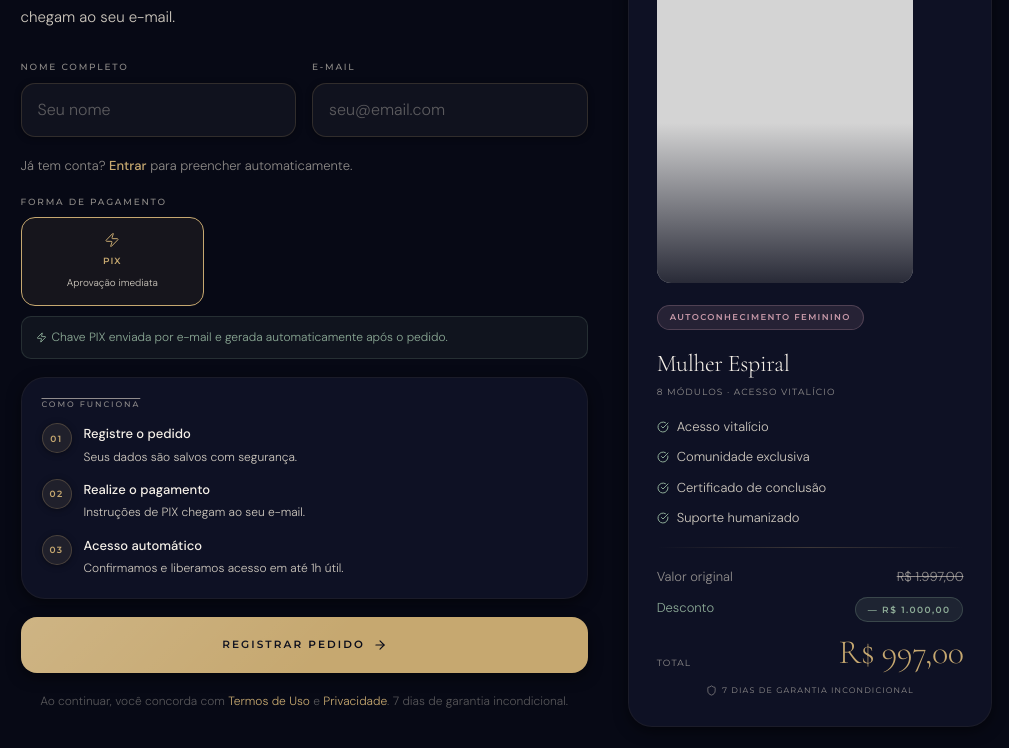
CheckoutPage — form validation › shows both name and email errors simultaneously when both are empty
(page scrolled)
Click the button "Registrar pedido". click: [304, 645]
box: left=20, top=617, right=588, bottom=673
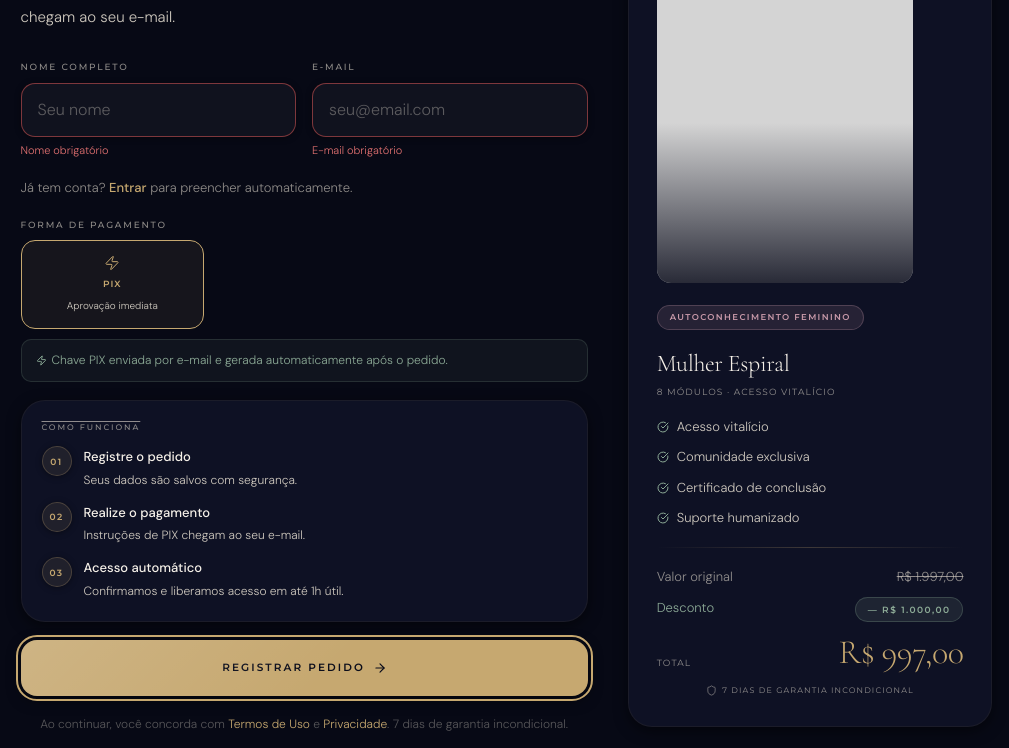
Check: the text "Nome obrigatório" is shown, box left=20, top=142, right=108, bottom=156
Check: the text "E-mail obrigatório" is shown, box left=312, top=142, right=402, bottom=156
